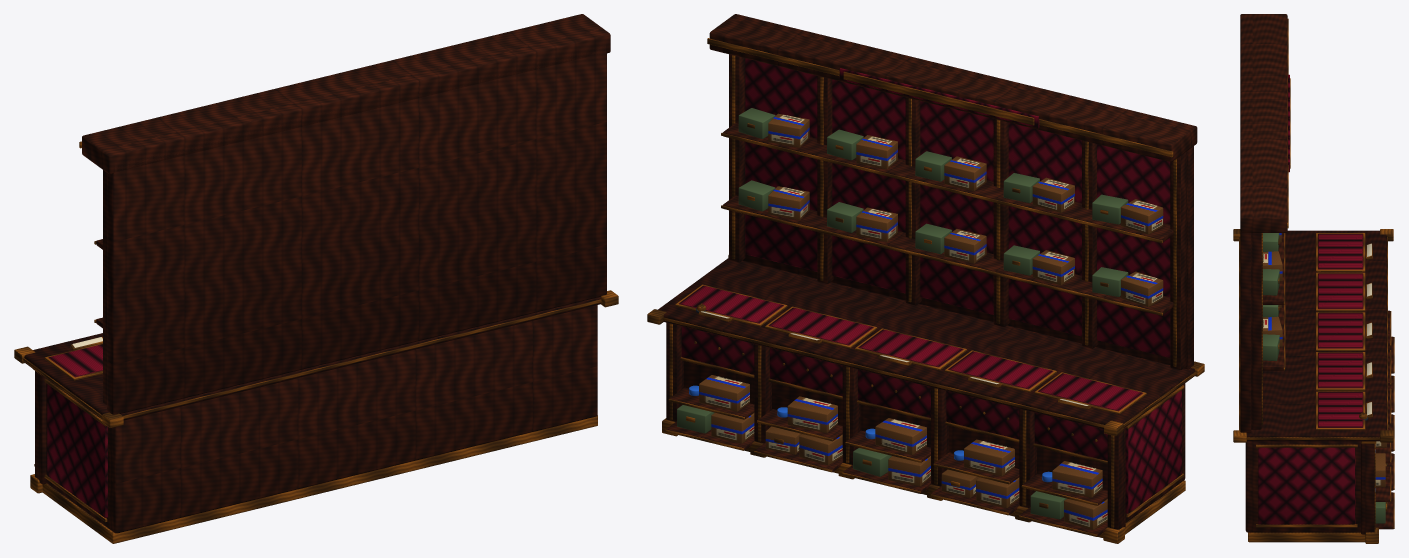
File: prop_arsenal_counter.glb
3 renders of one model, left to right at view 1: azimuth 30°, elevation 25°; view 2: azimuth 150°, elevation 25°; view 3: azimuth 270°, elevation 25°, orthographic. The views are drawn at different scales.
Visible parts, largest first — view 1: Counter_Brass_Kickplate; view 2: Counter_Brass_Kickplate; view 3: Counter_Brass_Kickplate.
Boxes of the visible parts, x1,y1,x2,y2 form: Counter_Brass_Kickplate: (14, 14, 618, 543); Counter_Brass_Kickplate: (647, 14, 1204, 543); Counter_Brass_Kickplate: (1233, 14, 1394, 543).
Size of the model in its own units: 4.34 by 3.21 by 1.43.
9 materials, 4 textured.
